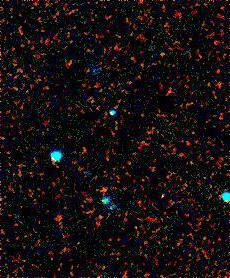star: (151, 176, 181, 206)
